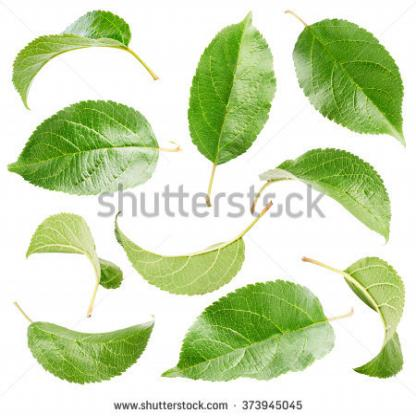apple leaf: (160, 278, 340, 388), (289, 11, 415, 143), (7, 97, 164, 202), (110, 209, 268, 305), (182, 6, 274, 168), (14, 308, 157, 397), (18, 205, 136, 308), (337, 246, 415, 381)
